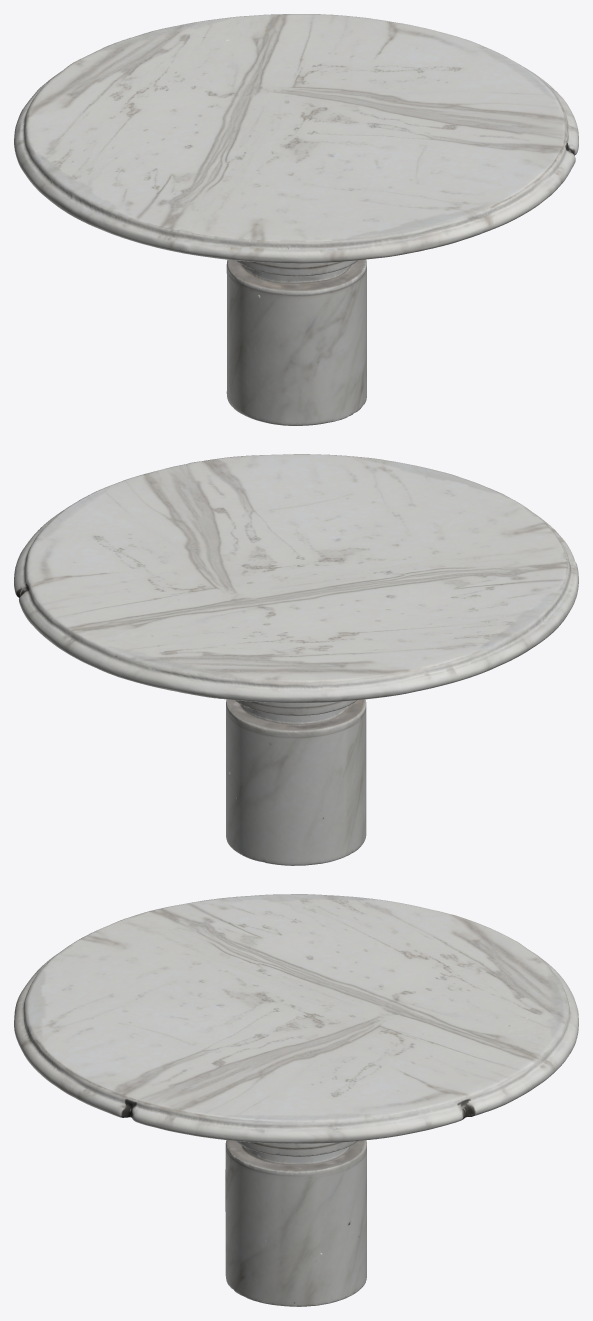
Rendered from Meshy_AI_generate_a_marble_cir_0531165752_texture.fbx.
3 renders of one model, top to bottom at view 1: azimuth 30°, elevation 25°; view 2: azimuth 150°, elevation 25°; view 3: azimuth 270°, elevation 25°, orthographic.
Parts seen in each view (by area): view 1: Mesh_0; view 2: Mesh_0; view 3: Mesh_0.
Boxes of the visible parts, <box> form: Mesh_0: <box>14,14,578,425</box>; Mesh_0: <box>14,454,578,865</box>; Mesh_0: <box>14,894,578,1306</box>.
Bounding box in the file's own units: 200 × 106 × 200.
Materials: 1 (1 with a texture image).
